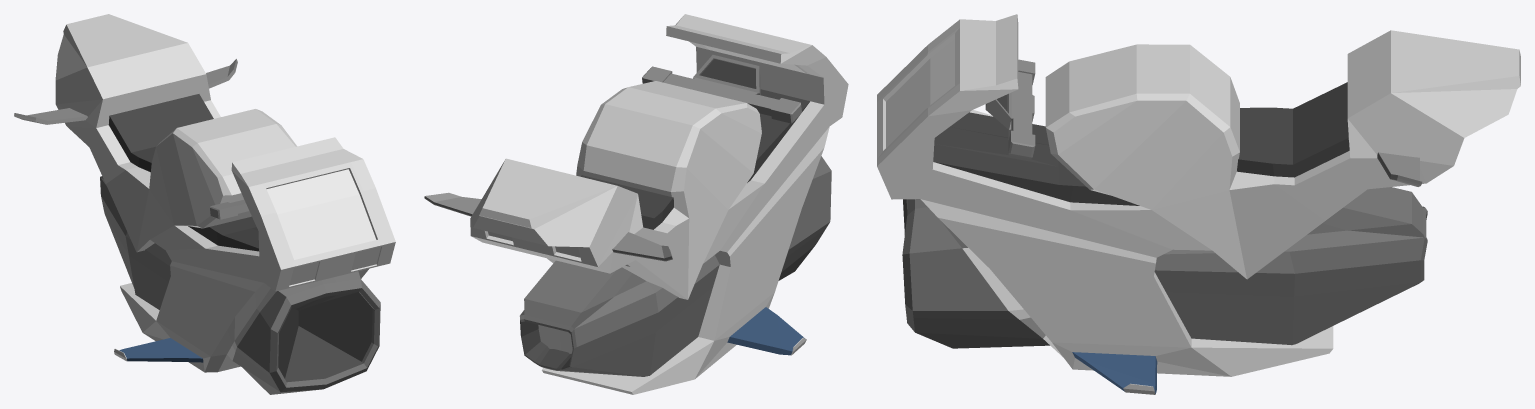
The model's file is Hoverbike2.fbx.
3 views of the same model, side by side, from view 1: azimuth 30°, elevation 25°; view 2: azimuth 150°, elevation 25°; view 3: azimuth 270°, elevation 25° (orthographic). The views are drawn at different scales.
Visible parts, largest first — view 1: Hoverbike1; view 2: Hoverbike1; view 3: Hoverbike1.
Boxes of the visible parts, x1,y1,x2,y2 form: Hoverbike1: [14, 14, 395, 394]; Hoverbike1: [424, 14, 848, 394]; Hoverbike1: [877, 14, 1520, 394].
Bounding box in the file's own units: 11.38 × 10.79 × 21.36.
